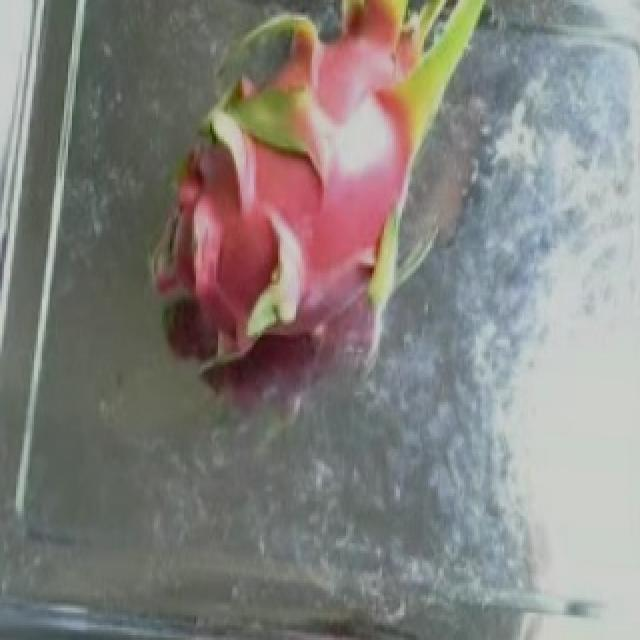fruit: (104, 0, 342, 417)
